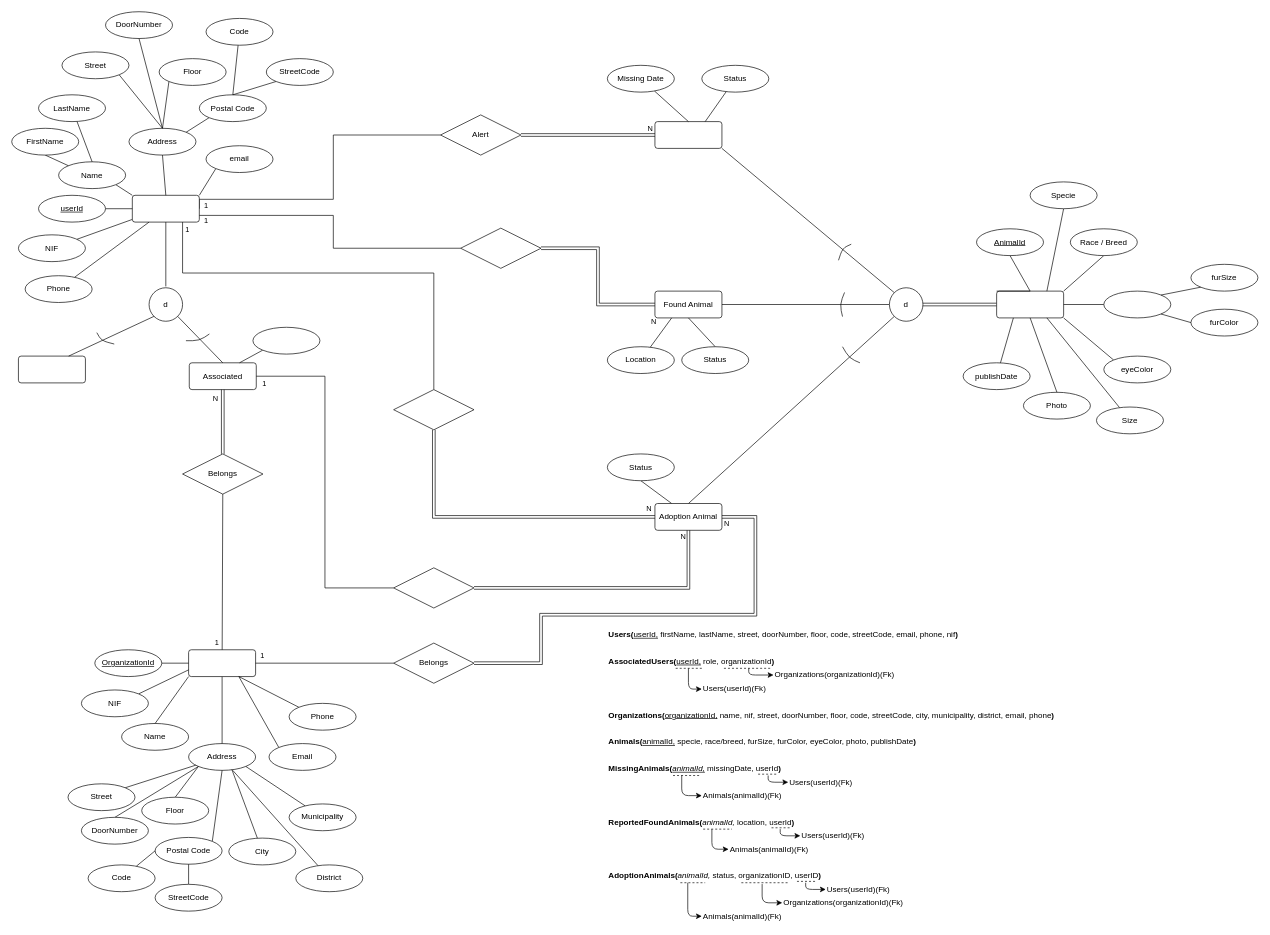
Image size: 1270x935. Some labels were removed from this diagram. Here are the shapes that lost their labels. From the top down, the centre of each, then its label:
At [688,134]: "Missing Animal".
At [165,208]: "User".
At [500,247]: "Report".
At [1030,304]: "Animal".
At [1137,304]: "Fur".
At [286,340]: "Role???".
At [51,369]: "Admin".
At [433,409]: "Adopts".
At [433,587]: "Publish".
At [222,663]: "Organization".
